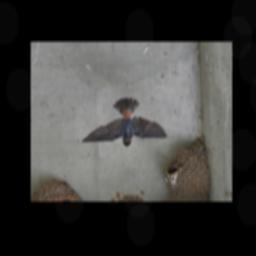Swallow: (79, 97, 168, 148)
